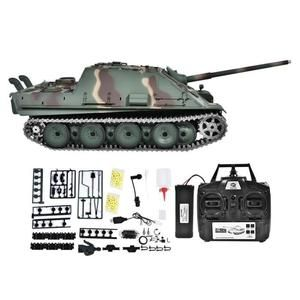Battle Tank: (1, 50, 295, 153)
